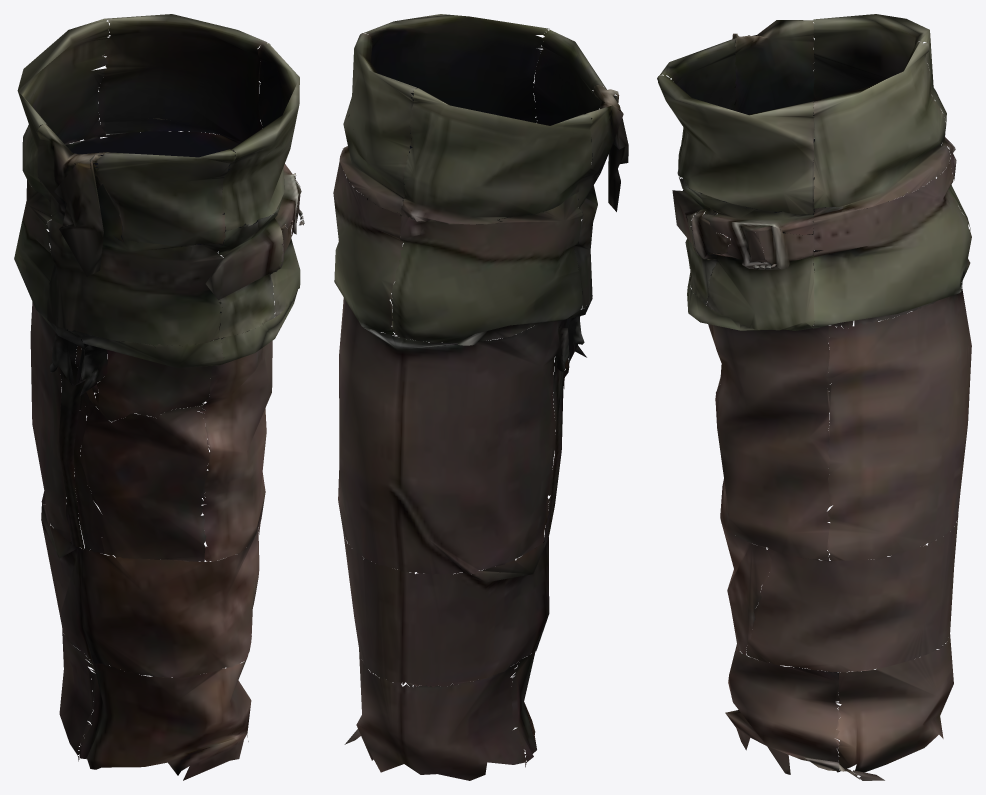
File: a_ranger_boots_R_shaft.glb
3 views of the same model, side by side, from view 1: azimuth 30°, elevation 25°; view 2: azimuth 150°, elevation 25°; view 3: azimuth 270°, elevation 25° (orthographic).
Visible parts, largest first — view 1: geometry_0.002; view 2: geometry_0.002; view 3: geometry_0.002.
Part boxes in pixels (box(x1,y1,x2,y2)): geometry_0.002: box(14, 14, 304, 780); geometry_0.002: box(333, 14, 628, 780); geometry_0.002: box(657, 14, 971, 780).
Size of the model in its own units: 0.1407 by 0.3688 by 0.1509.
Materials: 1 (1 with a texture image).
